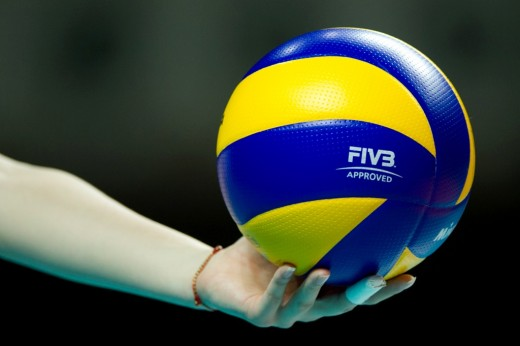volleyball: (213, 26, 477, 285)
